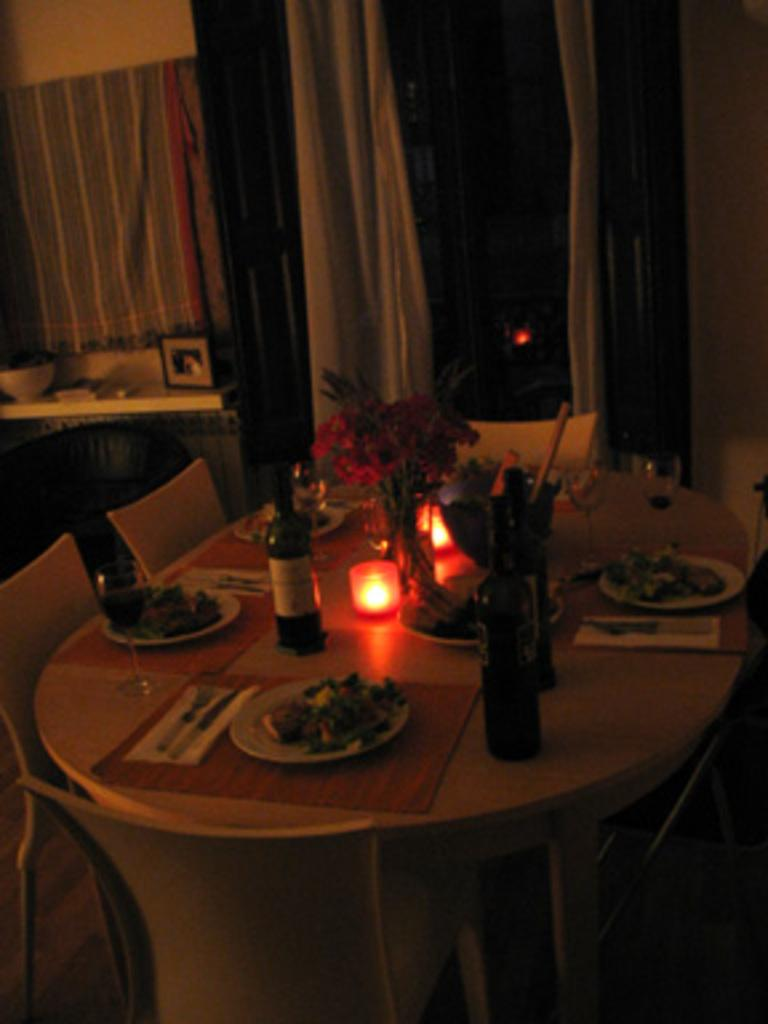Chair: (0, 525, 67, 1021), (107, 472, 243, 592), (448, 405, 597, 477)
